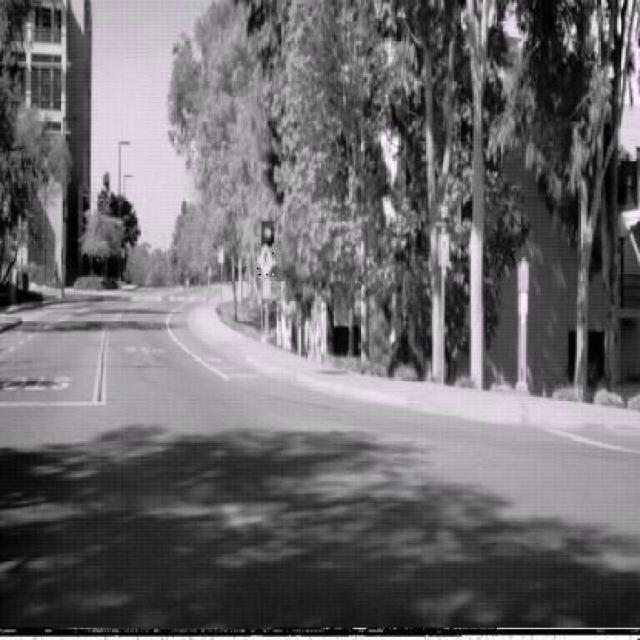pedestrianCrossing: (258, 243, 277, 279)
